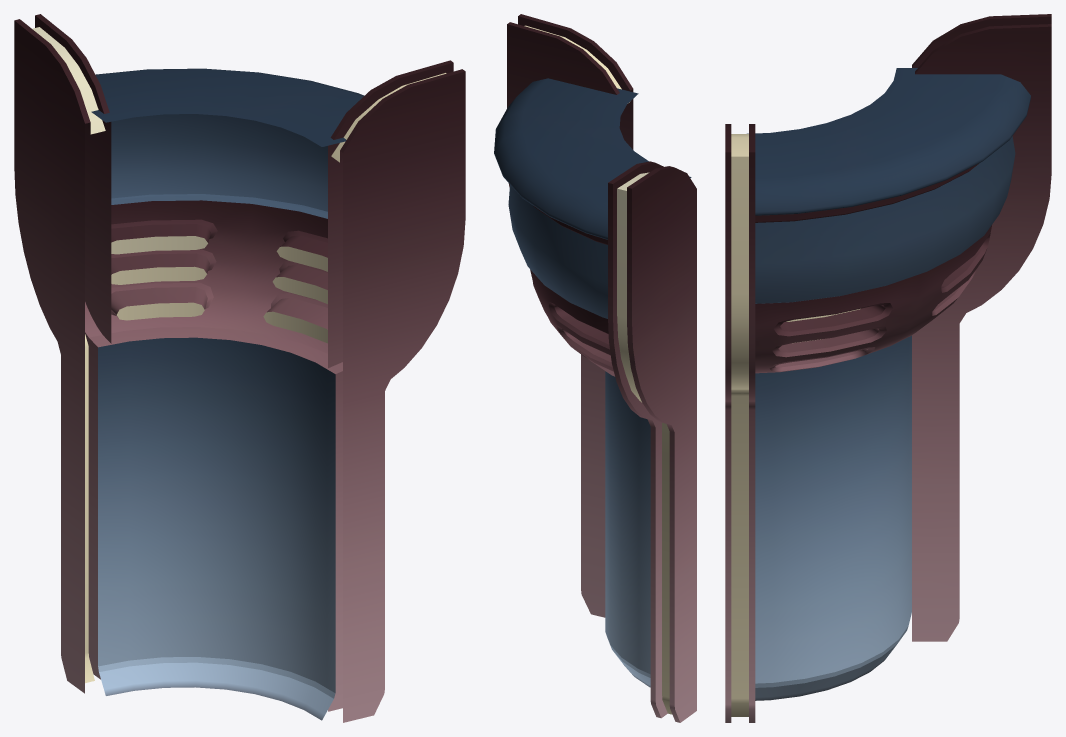
File: ENV_TallWall_Obtuse.FBX
3 renders of one model, left to right at view 1: azimuth 30°, elevation 25°; view 2: azimuth 150°, elevation 25°; view 3: azimuth 270°, elevation 25°, orthographic. The views are drawn at different scales.
Visible parts, largest first — view 1: ENV_TallWall_Obtuse; view 2: ENV_TallWall_Obtuse; view 3: ENV_TallWall_Obtuse.
Boxes of the visible parts, x1,y1,x2,y2 form: ENV_TallWall_Obtuse: [14, 14, 465, 722]; ENV_TallWall_Obtuse: [494, 14, 696, 722]; ENV_TallWall_Obtuse: [725, 14, 1051, 722].
Bounding box in the file's own units: 522 × 1084 × 522.
Materials: 2 (2 with a texture image).
